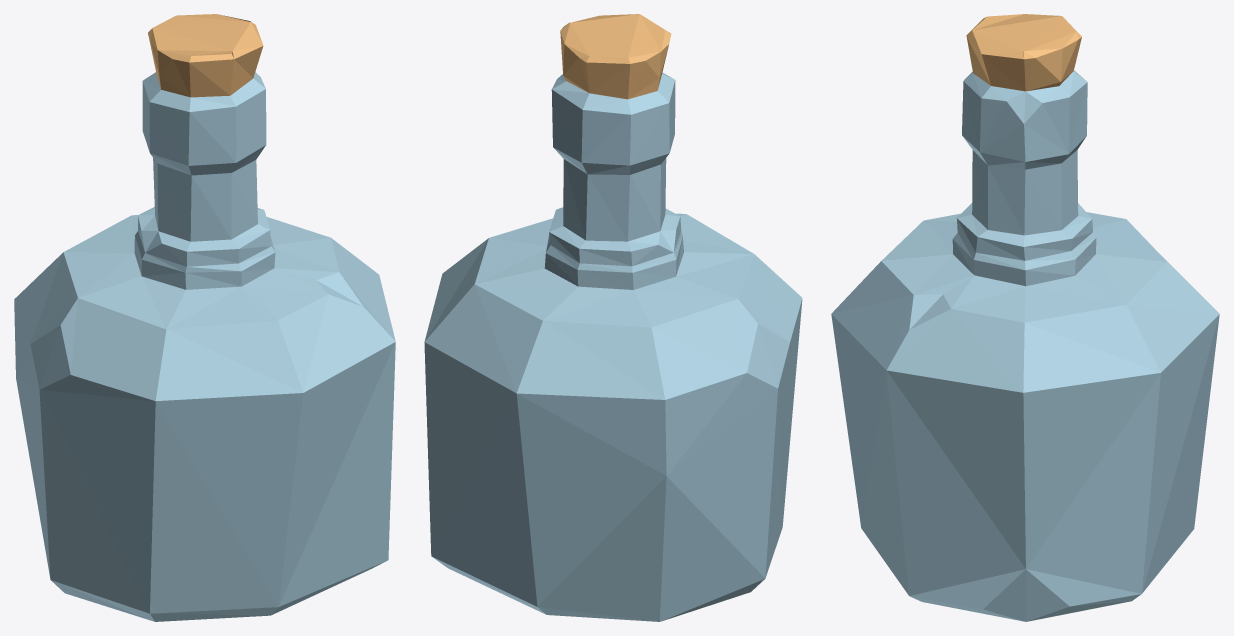
The model's file is SFHW_Bottle_006.fbx.
3 views of the same model, side by side, from view 1: azimuth 30°, elevation 25°; view 2: azimuth 150°, elevation 25°; view 3: azimuth 270°, elevation 25° (orthographic).
Visible parts, largest first — view 1: SFHW_Bottle_006; view 2: SFHW_Bottle_006; view 3: SFHW_Bottle_006.
Part boxes in pixels (x1,y1,x2,y2): SFHW_Bottle_006: (14,14,395,621); SFHW_Bottle_006: (424,14,802,621); SFHW_Bottle_006: (831,14,1219,621).
Bounding box in the file's own units: 17.86 × 26.63 × 18.04.
